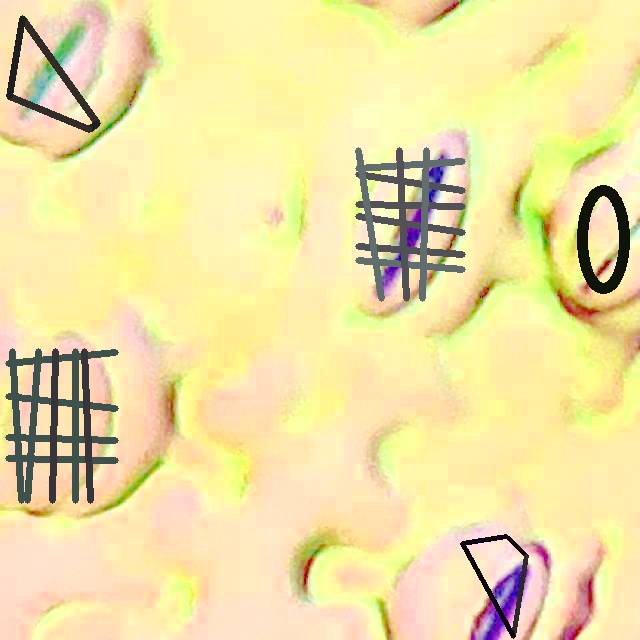close: (5, 348, 118, 503), (576, 186, 630, 292)
open: (355, 148, 465, 300), (6, 15, 100, 132), (461, 535, 527, 638)
